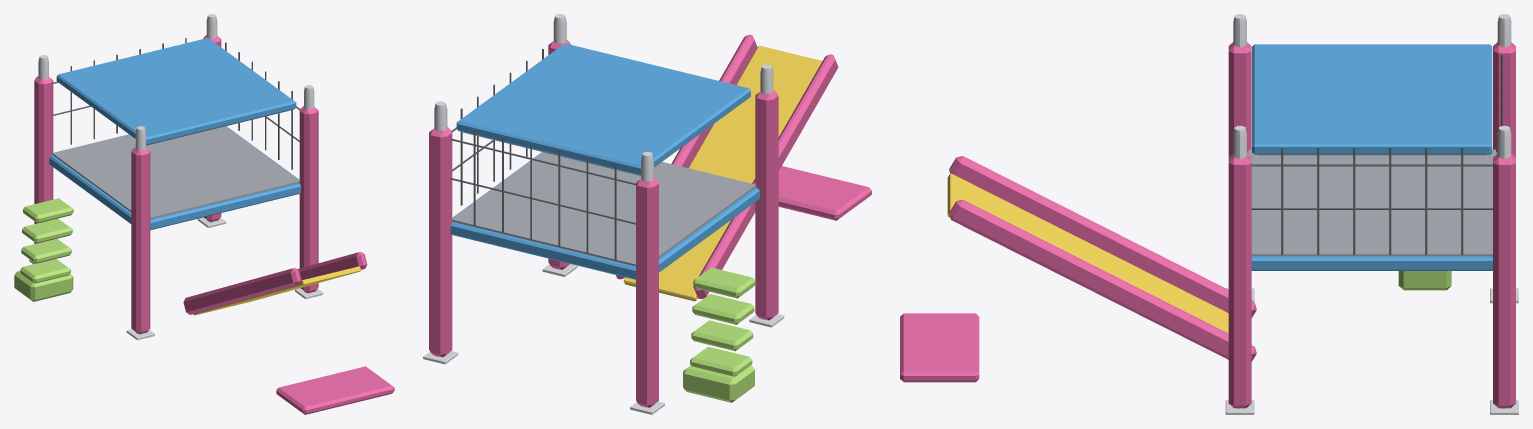
Rendered from trampoline-park-and-soft-play-soft-play-frame-tower-wi-509d6838__34619.glb.
The picture shows the model from 3 angles, left to right: view 1: azimuth 30°, elevation 25°; view 2: azimuth 150°, elevation 25°; view 3: azimuth 270°, elevation 25°; orthographic projection. The views are drawn at different scales.
Visible parts, largest first — view 1: soft-play-frame-tower-with-slide; view 2: soft-play-frame-tower-with-slide; view 3: soft-play-frame-tower-with-slide.
Boxes of the visible parts, x1,y1,x2,y2 form: soft-play-frame-tower-with-slide: (14, 14, 394, 414); soft-play-frame-tower-with-slide: (423, 14, 871, 414); soft-play-frame-tower-with-slide: (900, 14, 1518, 414).
Bounding box in the file's own units: 2.98 × 2.58 × 5.15.
